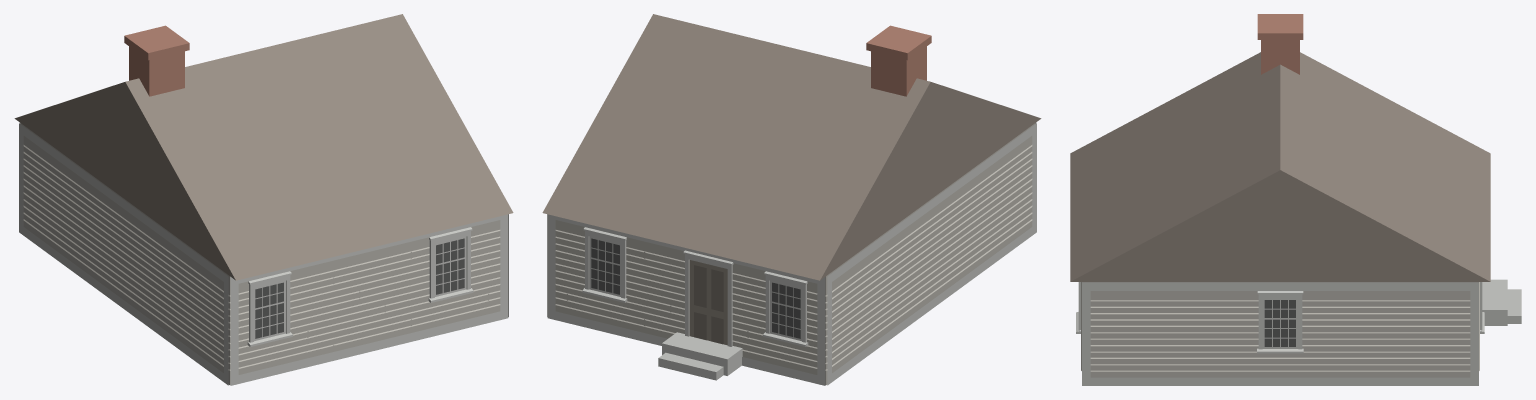
File: recon_1835_blk_west_lake_canal_d4_02__inferred_1835.glb
3 views of the same model, side by side, from view 1: azimuth 30°, elevation 25°; view 2: azimuth 150°, elevation 25°; view 3: azimuth 270°, elevation 25° (orthographic). The views are drawn at different scales.
Parts seen in each view (by area): view 1: recon_1835_blk_west_lake_canal_d4_02__inferred_1835; view 2: recon_1835_blk_west_lake_canal_d4_02__inferred_1835; view 3: recon_1835_blk_west_lake_canal_d4_02__inferred_1835.
Part boxes in pixels (x1,y1,x2,y2): recon_1835_blk_west_lake_canal_d4_02__inferred_1835: (14,14,513,385); recon_1835_blk_west_lake_canal_d4_02__inferred_1835: (542,14,1041,385); recon_1835_blk_west_lake_canal_d4_02__inferred_1835: (1070,14,1521,385).
Size of the model in its own units: 6.71 by 5.9 by 9.74.
